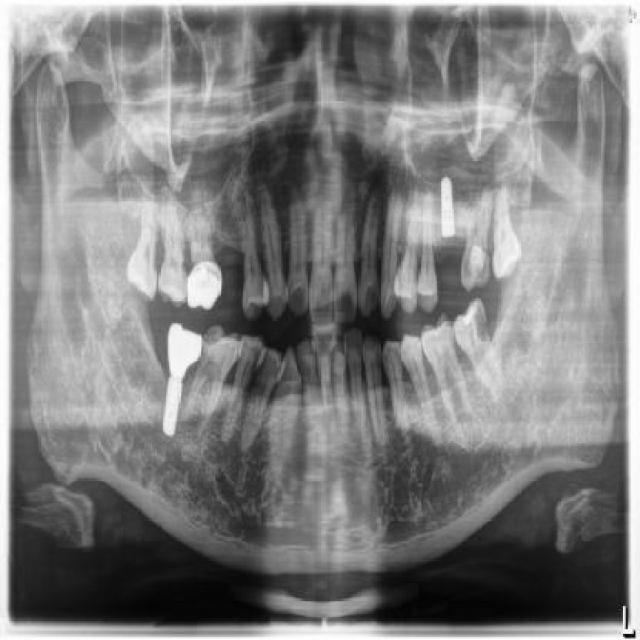dentin-curugu: (455, 305, 494, 356), (248, 357, 273, 408), (359, 276, 385, 318), (288, 272, 310, 316)
implant: (156, 322, 202, 438), (427, 167, 461, 240)
kaplama: (185, 255, 224, 314)
